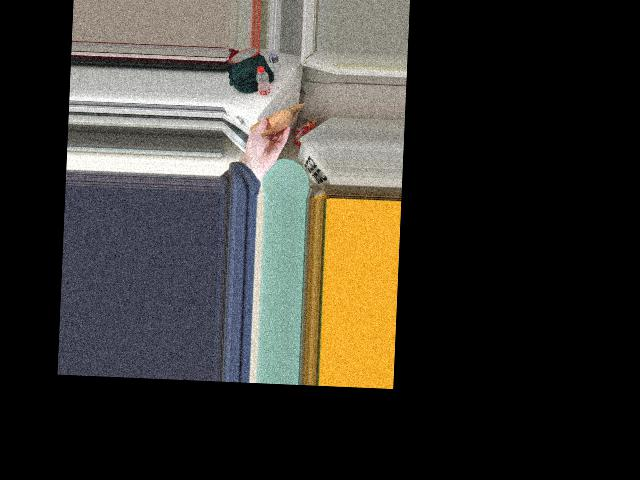sweet_potato: (255, 109, 288, 139)
